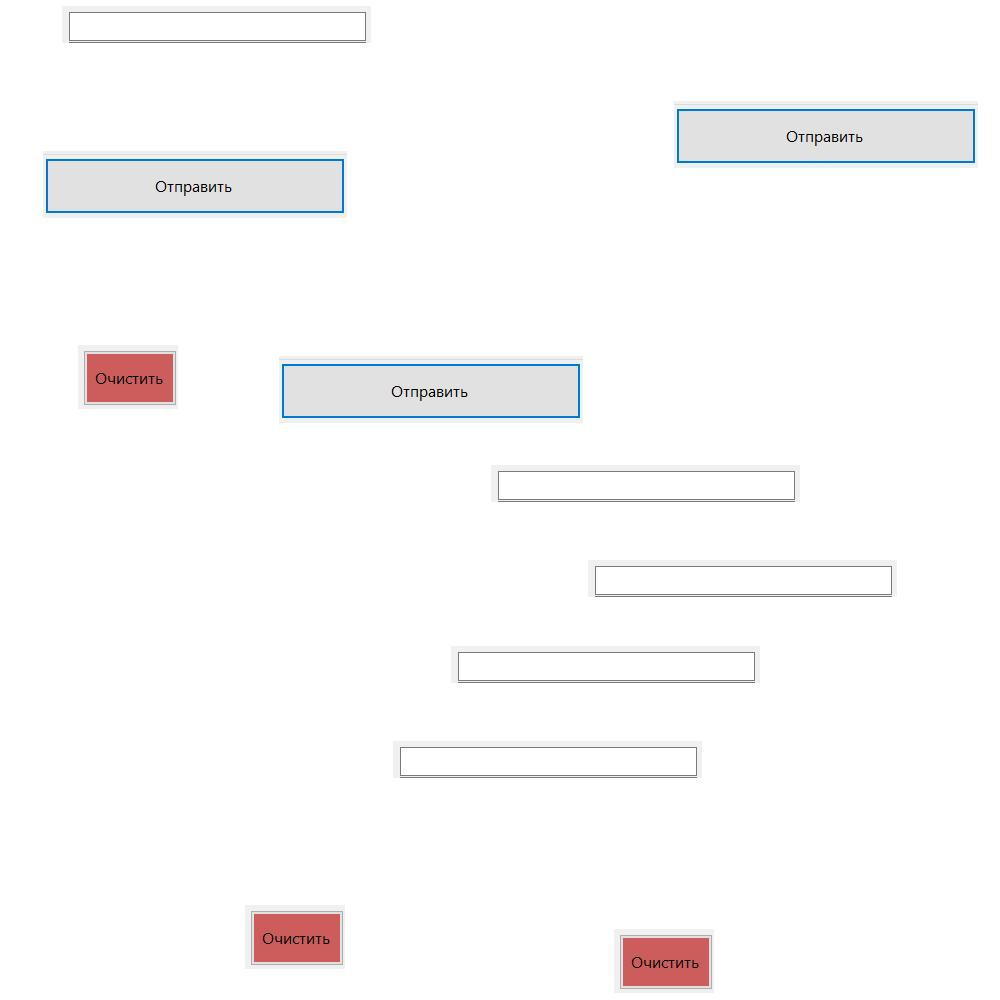Button: (279, 356, 583, 423), (674, 101, 978, 168), (43, 151, 347, 218), (245, 905, 345, 969), (614, 929, 714, 993), (78, 345, 178, 409)
EditText-: (588, 560, 897, 597), (393, 741, 702, 778), (491, 465, 800, 502), (62, 6, 371, 43), (451, 646, 760, 683)
